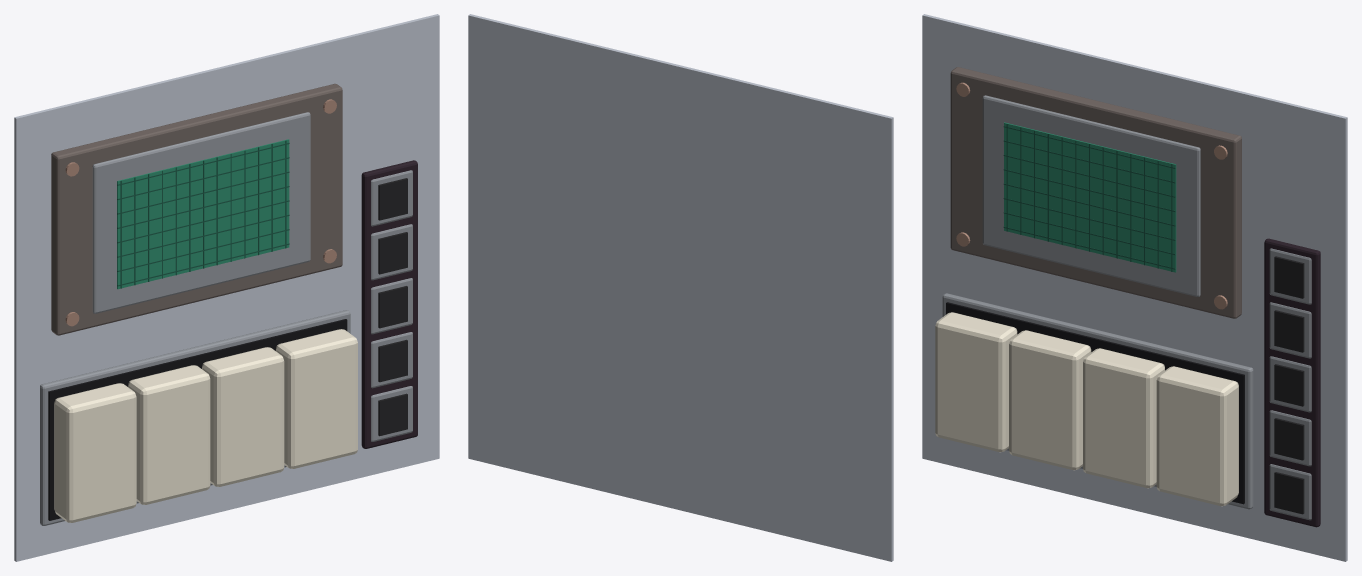
The model's file is memory_module.glb.
The picture shows the model from 3 angles, left to right: view 1: azimuth 30°, elevation 25°; view 2: azimuth 150°, elevation 25°; view 3: azimuth 330°, elevation 25°; orthographic projection.
Visible parts, largest first — view 1: mem_plate, mem_screen_frame, mem_screen, mem_bezel, part_mem_0, part_mem_1, part_mem_2, part_mem_3, mem_led_strip, mem_grid, mem_tray, mem_well (+10 smaller); view 2: mem_plate; view 3: mem_plate, mem_screen_frame, mem_screen, mem_bezel, part_mem_3, part_mem_0, part_mem_2, part_mem_1, mem_led_strip, mem_grid, mem_tray, mem_well (+10 smaller).
Part boxes in pixels (x1,y1,x2,y2): mem_plate: [14, 14, 439, 561]; mem_screen_frame: [51, 83, 342, 335]; mem_screen: [117, 139, 289, 289]; mem_bezel: [92, 112, 310, 313]; part_mem_0: [54, 383, 136, 522]; part_mem_1: [128, 365, 210, 504]; part_mem_2: [202, 347, 284, 486]; part_mem_3: [276, 329, 357, 468]; mem_led_strip: [361, 160, 417, 448]; mem_grid: [117, 140, 289, 288]; mem_tray: [40, 310, 350, 525]; mem_well: [48, 319, 347, 520]; mem_plate: [468, 14, 893, 561]; mem_plate: [922, 14, 1347, 561]; mem_screen_frame: [950, 67, 1241, 318]; mem_screen: [1004, 122, 1176, 272]; mem_bezel: [982, 95, 1200, 296]; part_mem_3: [1156, 366, 1238, 506]; part_mem_0: [935, 312, 1017, 452]; part_mem_2: [1083, 348, 1164, 488]; part_mem_1: [1009, 330, 1091, 470]; mem_led_strip: [1264, 238, 1320, 527]; mem_grid: [1003, 123, 1175, 271]; mem_tray: [942, 293, 1253, 509]; mem_well: [946, 302, 1244, 504].
Bounding box in the file's own units: 0.74 × 0.74 × 0.069.
